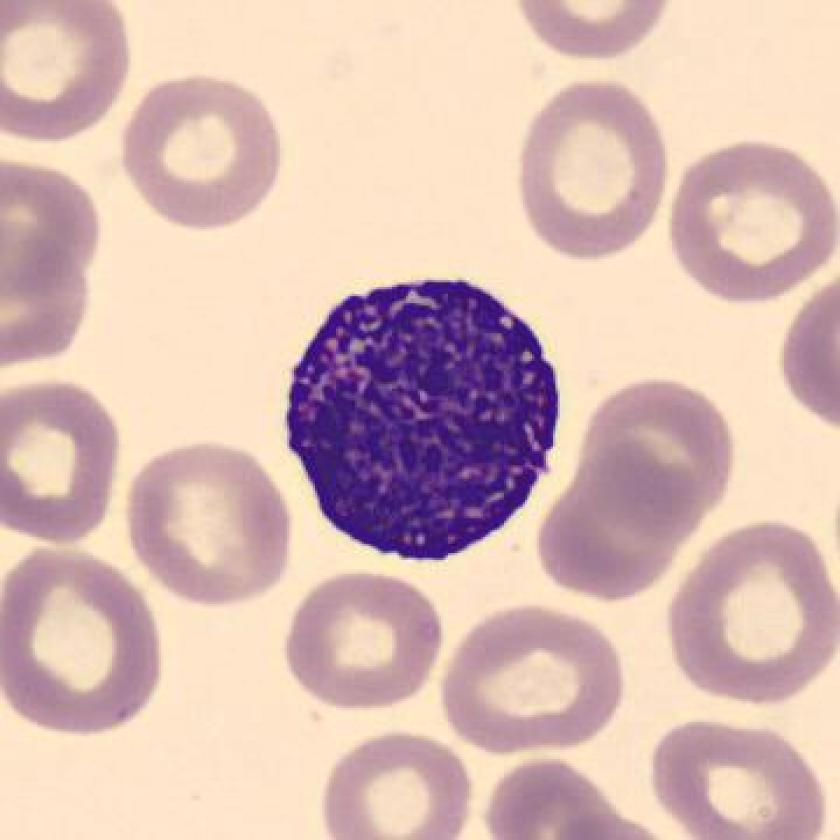basophil: (260, 258, 577, 572)
